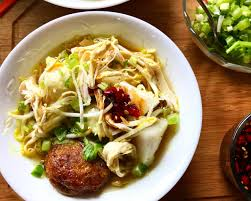soto: (1, 11, 206, 201)
